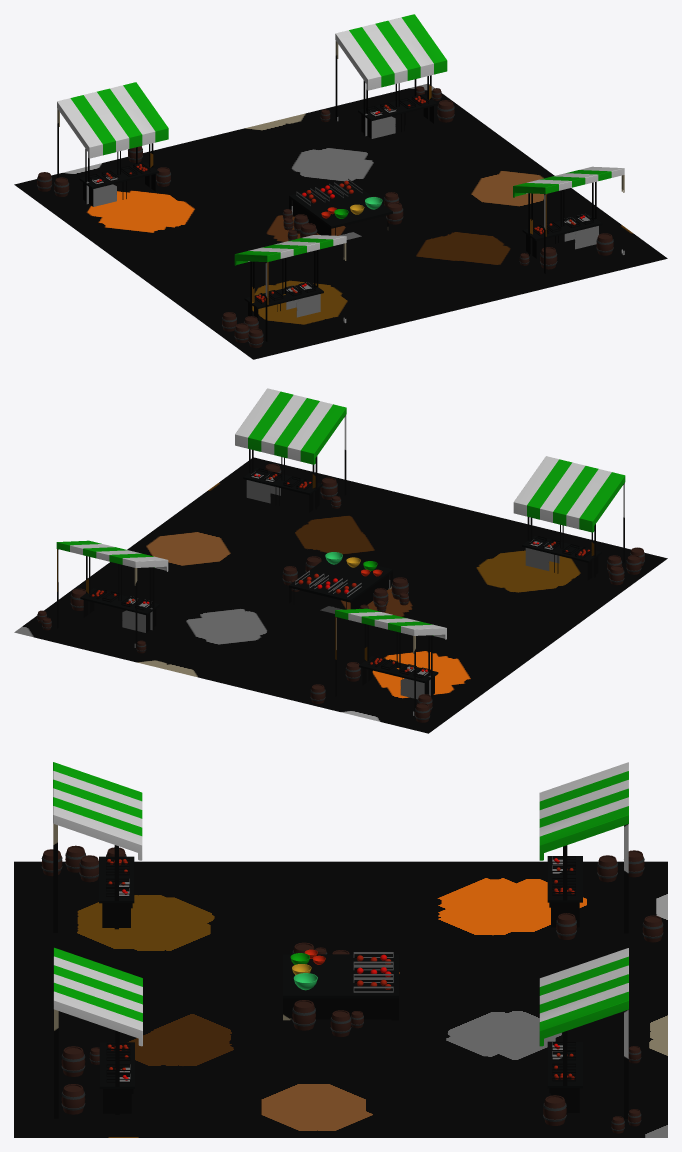
The model's file is vertices.obj.
The picture shows the model from 3 angles, top to bottom: view 1: azimuth 30°, elevation 25°; view 2: azimuth 150°, elevation 25°; view 3: azimuth 270°, elevation 25°; orthographic projection. The views are drawn at different scales.
Parts seen in each view (by area): view 1: Market_.002_Plane.007_MarketFloor, Market_.002_Plane.007_Green, Market_.002_Plane.007_White, Market_.002_Plane.007_Ardoise, Market_.002_Plane.007_Wood2, Market_.002_Plane.007_BarrelWood, Market_.002_Plane.007_Wood1, Market_.002_Plane.007_BarrelIron; view 2: Market_.002_Plane.007_MarketFloor, Market_.002_Plane.007_Green, Market_.002_Plane.007_White, Market_.002_Plane.007_Ardoise, Market_.002_Plane.007_Wood2, Market_.002_Plane.007_BarrelWood, Market_.002_Plane.007_Wood1, Market_.002_Plane.007_BarrelIron; view 3: Market_.002_Plane.007_MarketFloor, Market_.002_Plane.007_Green, Market_.002_Plane.007_White, Market_.002_Plane.007_Wood2, Market_.002_Plane.007_Ardoise, Market_.002_Plane.007_BarrelWood, Market_.002_Plane.007_BarrelIron, Market_.002_Plane.007_Orange.
Part boxes in pixels (box(x1,y1,x2,y2)): Market_.002_Plane.007_MarketFloor: box(14, 84, 667, 359); Market_.002_Plane.007_Green: box(70, 14, 611, 265); Market_.002_Plane.007_White: box(57, 17, 624, 261); Market_.002_Plane.007_Ardoise: box(79, 94, 602, 309); Market_.002_Plane.007_Wood2: box(57, 41, 596, 341); Market_.002_Plane.007_BarrelWood: box(37, 86, 613, 348); Market_.002_Plane.007_Wood1: box(59, 43, 624, 323); Market_.002_Plane.007_BarrelIron: box(37, 90, 613, 345); Market_.002_Plane.007_MarketFloor: box(14, 457, 667, 733); Market_.002_Plane.007_Green: box(56, 391, 625, 635); Market_.002_Plane.007_White: box(70, 388, 611, 639); Market_.002_Plane.007_Ardoise: box(80, 468, 601, 683); Market_.002_Plane.007_Wood2: box(57, 415, 624, 715); Market_.002_Plane.007_BarrelWood: box(37, 463, 644, 722); Market_.002_Plane.007_Wood1: box(57, 468, 594, 715); Market_.002_Plane.007_BarrelIron: box(37, 470, 644, 720); Market_.002_Plane.007_MarketFloor: box(14, 861, 667, 1137); Market_.002_Plane.007_Green: box(53, 762, 628, 1046); Market_.002_Plane.007_White: box(53, 762, 628, 1046); Market_.002_Plane.007_Wood2: box(53, 824, 628, 1118); Market_.002_Plane.007_Ardoise: box(99, 856, 582, 1088); Market_.002_Plane.007_BarrelWood: box(41, 845, 663, 1133); Market_.002_Plane.007_BarrelIron: box(41, 852, 663, 1131); Market_.002_Plane.007_Orange: box(107, 859, 574, 1079).
Size of the model in its own units: 10 by 2 by 10.
